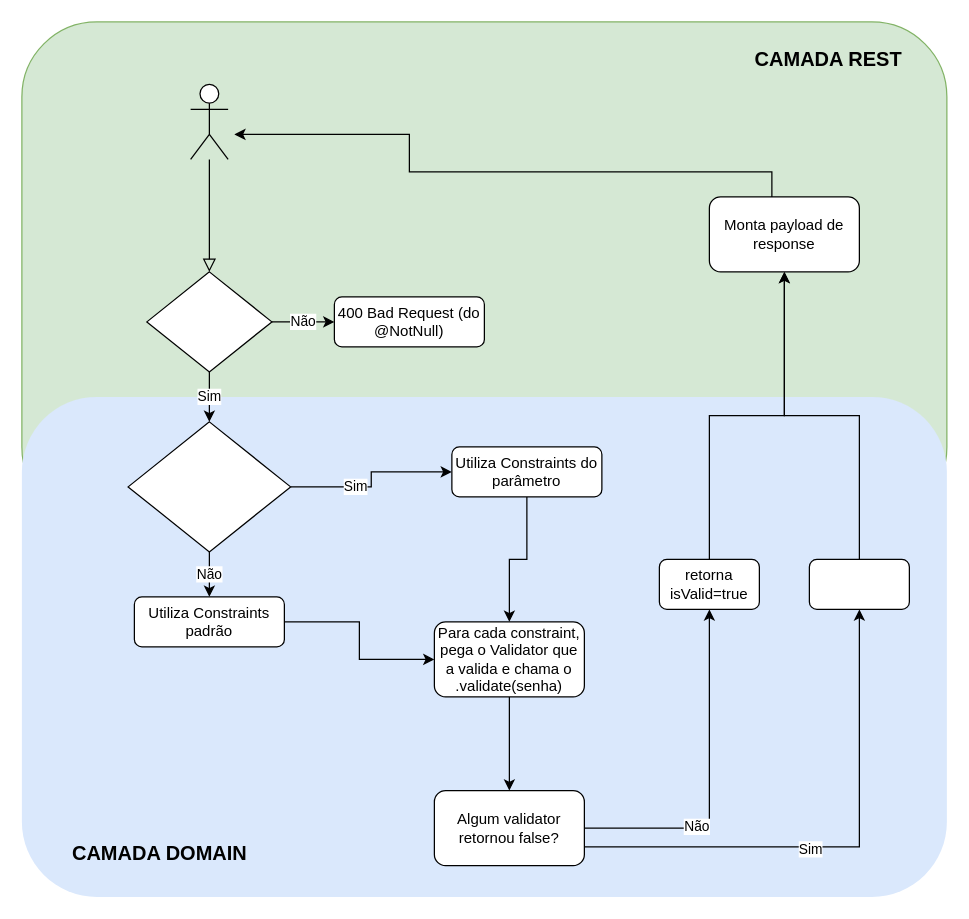
Image size: 969x919. Some labels were removed from this diagram. The centre of each missing label's shape, as x and y in pixels:
retorna isValid=false: the point at 858,583
Senha é diferente de Null?: the point at 209,321
Tem alguma constraint como parâmetro?: the point at 209,486
Usuário: the point at 208,121
